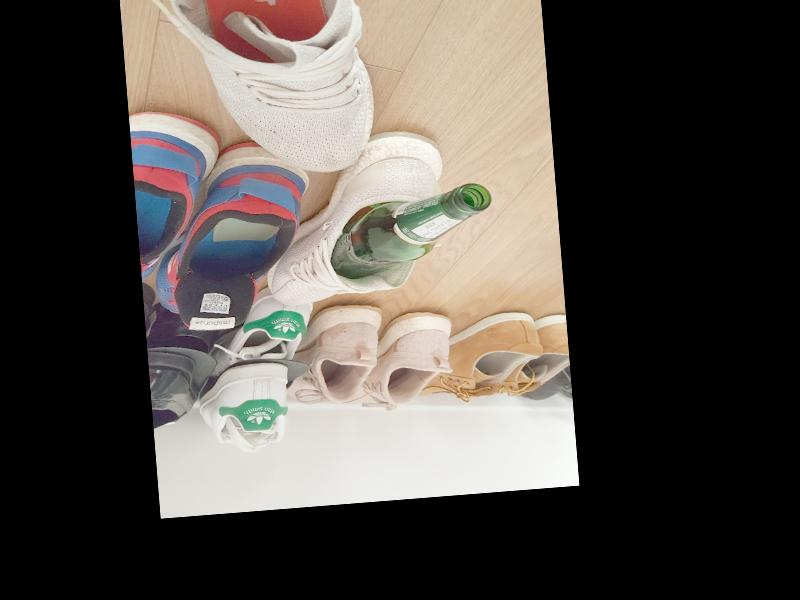Beer: (324, 181, 496, 283)
